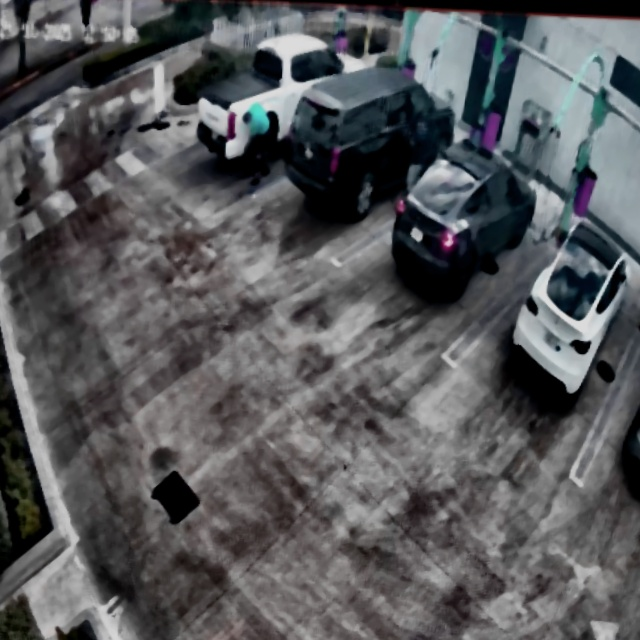Car: (282, 68, 462, 226), (381, 139, 543, 306)
